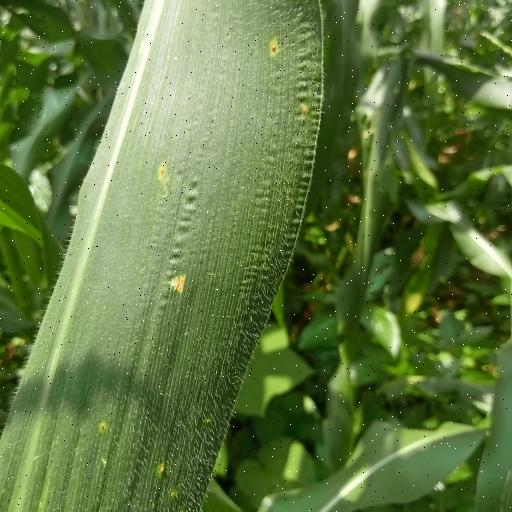Corn_Brown_Spots: (18, 0, 319, 512)
